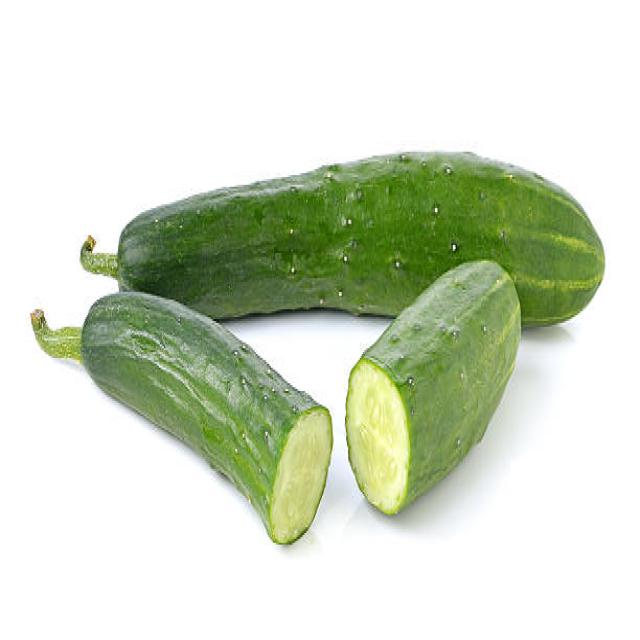cucumber: (120, 152, 605, 321), (82, 291, 333, 554), (346, 259, 522, 515)
